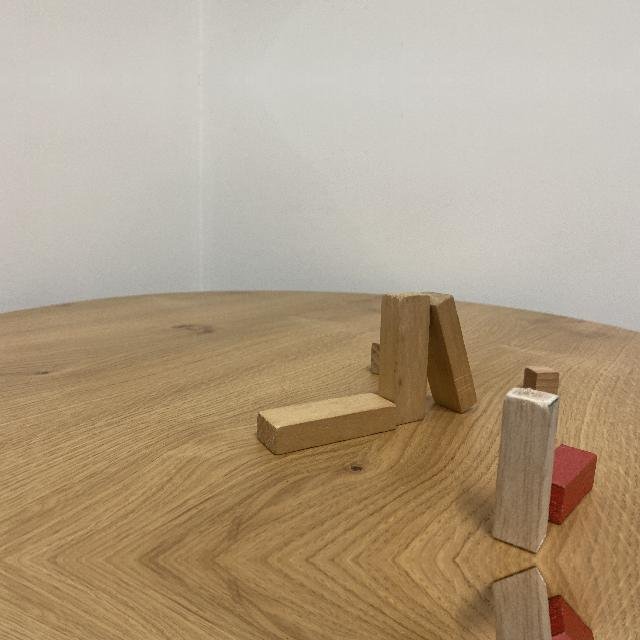block: (491, 387, 561, 553), (491, 567, 553, 640)
cube: (524, 365, 559, 394)
jenga: (256, 392, 396, 455), (378, 291, 431, 426), (420, 291, 478, 413)
red block: (550, 444, 597, 526), (550, 594, 594, 640)
